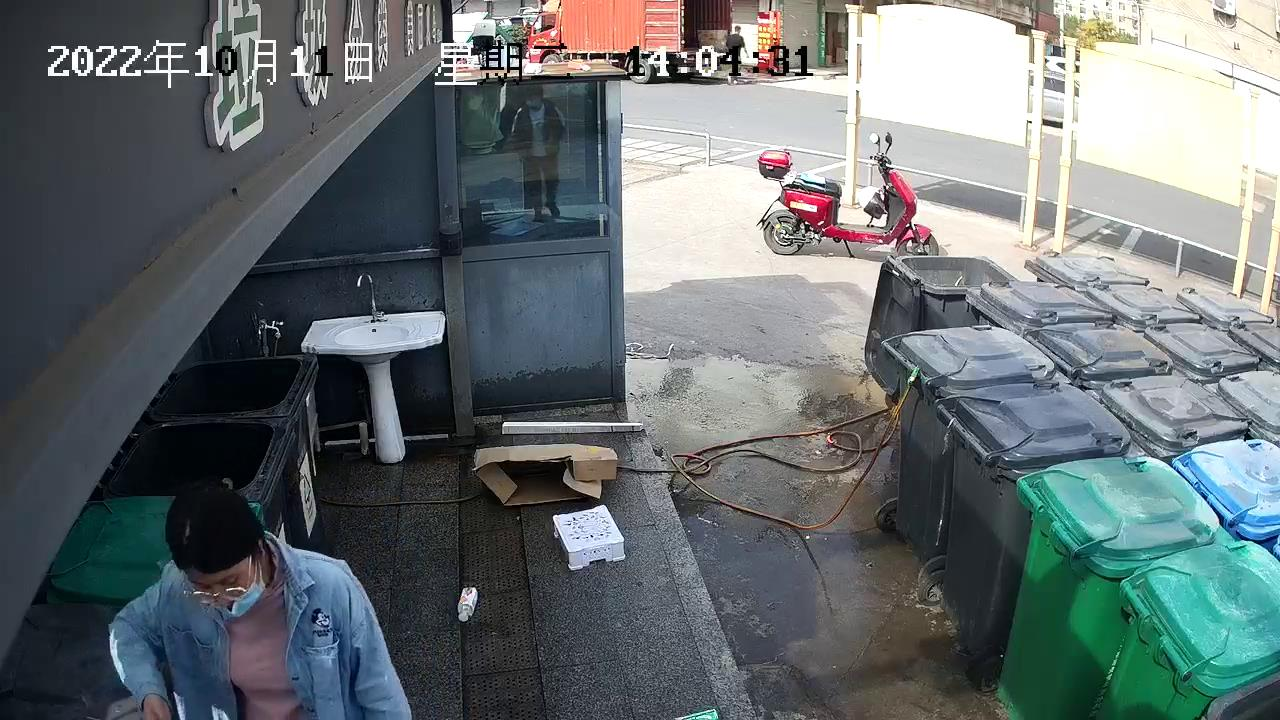suliaozhipin: (549, 501, 628, 571), (454, 583, 481, 622)
worker: (107, 475, 414, 720)
zhizhipin: (469, 441, 621, 509)
